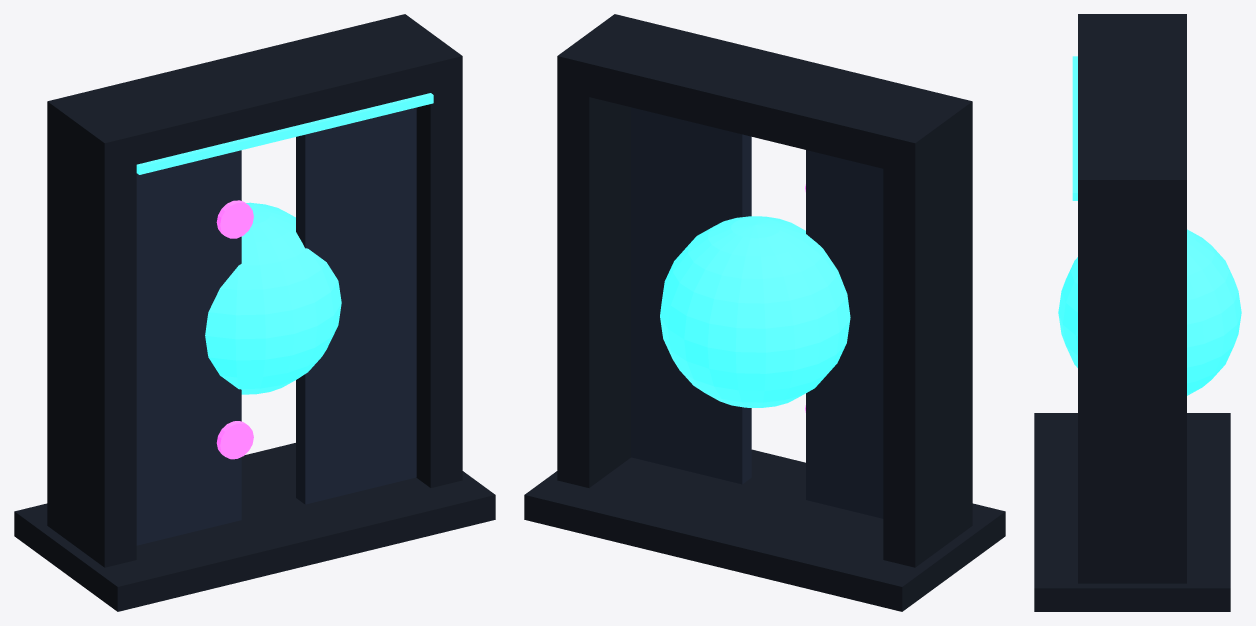
File: monumento.glb
The picture shows the model from 3 angles, left to right: view 1: azimuth 30°, elevation 25°; view 2: azimuth 150°, elevation 25°; view 3: azimuth 270°, elevation 25°; orthographic projection. The views are drawn at different scales.
Parts seen in each view (by area): view 1: peana; view 2: peana; view 3: peana.
Boxes of the visible parts, <box> form: peana: <box>14,14,495,611</box>; peana: <box>524,14,1005,611</box>; peana: <box>1034,14,1241,611</box>.
Size of the model in its own units: 1.9 by 2.16 by 0.95.
